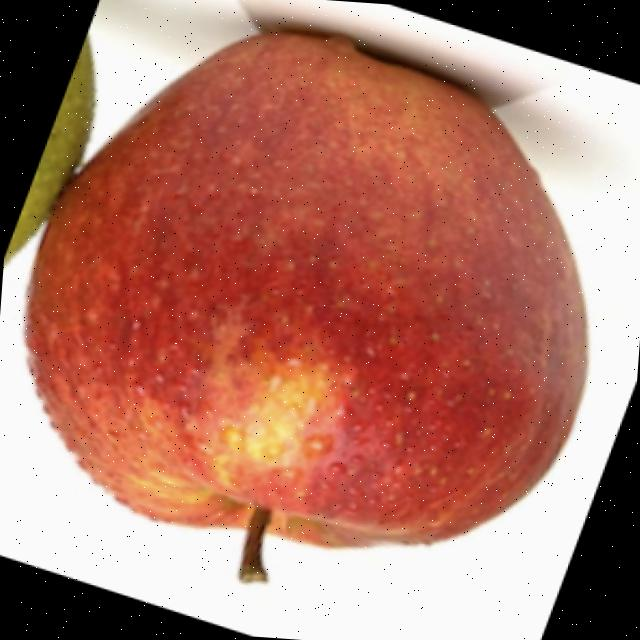Ripe: (0, 4, 614, 575)
